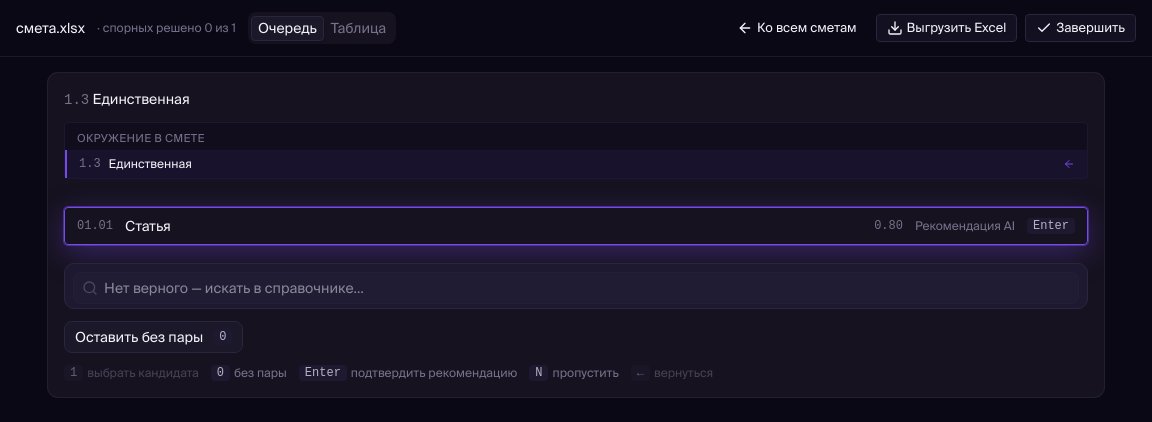
Scenario: поток очереди › терминальный экран: «Вернуться к последнему решению» снова открывает карточку решённой
Press Enter
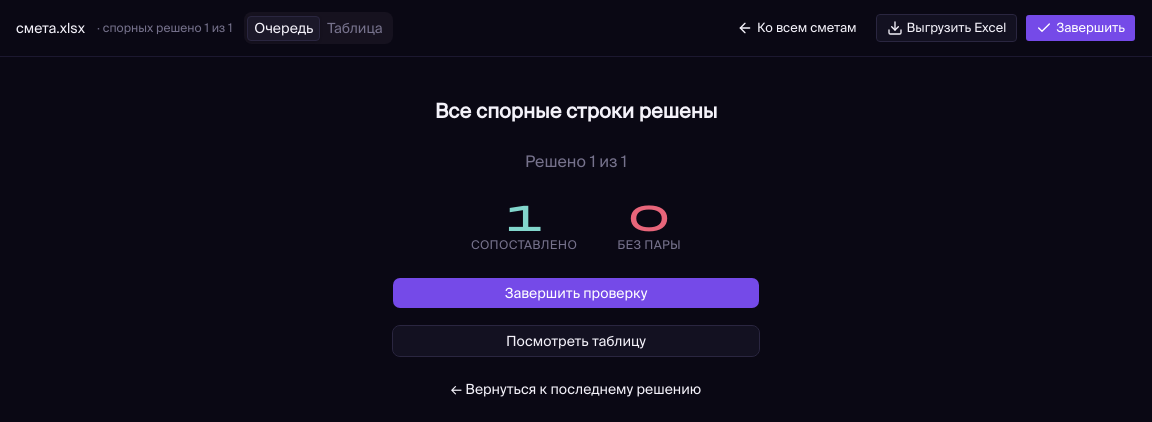
Expected: the heading "Все спорные строки решены" is shown, left=435, top=99, right=717, bottom=122
Click the button "← Вернуться к последнему решению" at (576, 389), box left=392, top=373, right=760, bottom=405
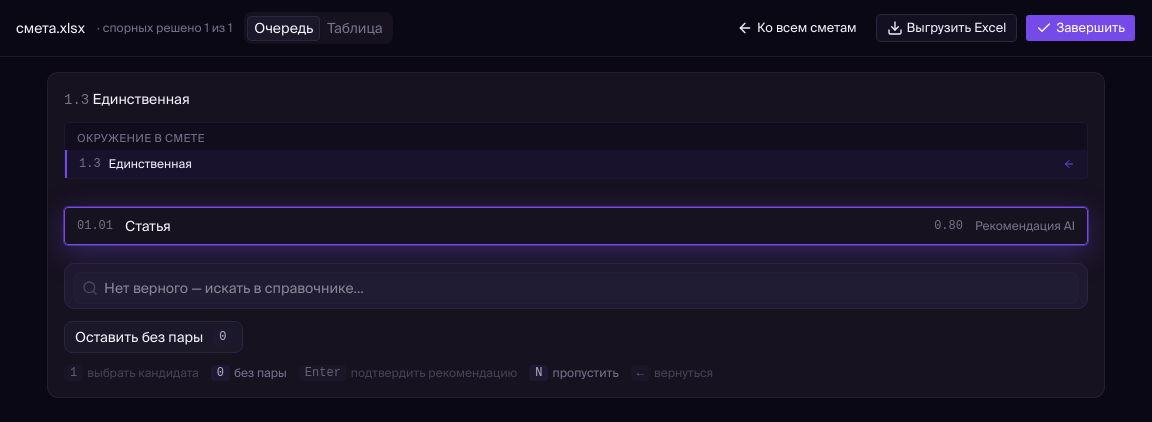
Expected: the 1st text "Единственная" is shown, left=92, top=91, right=190, bottom=107
